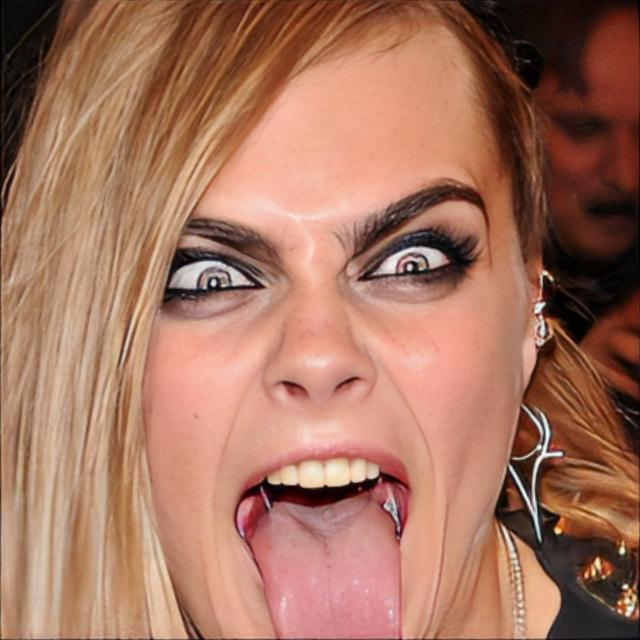anger: (133, 61, 533, 640)
